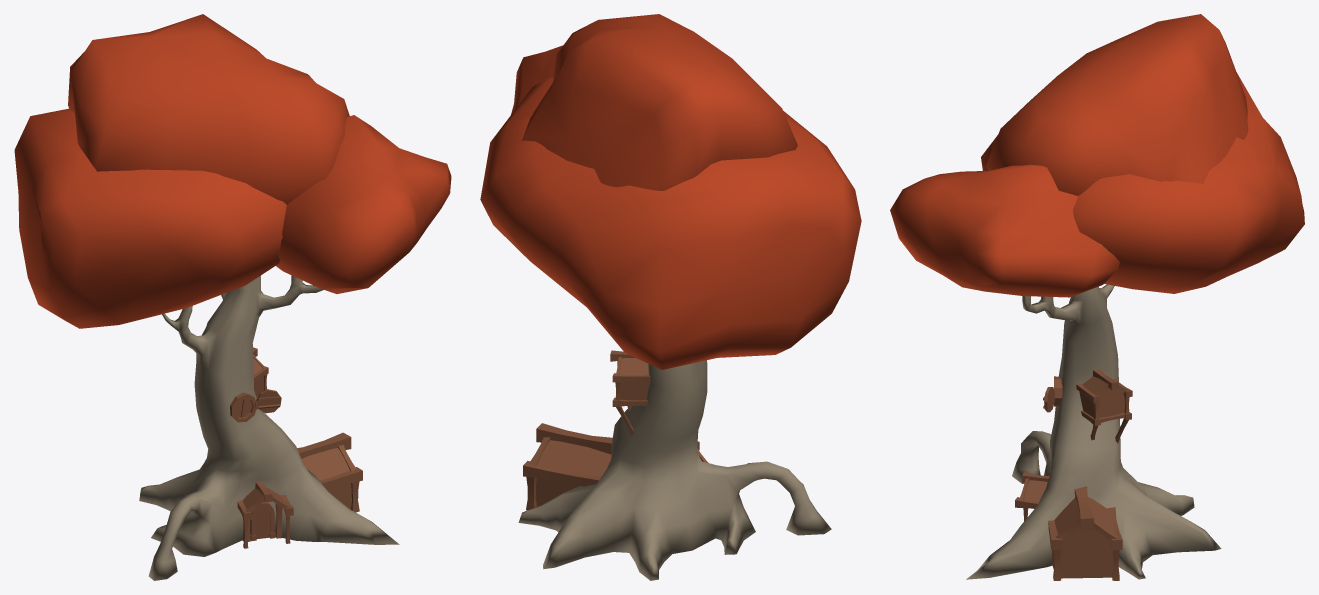
Rendered from Tree Home.fbx.
The picture shows the model from 3 angles, left to right: view 1: azimuth 30°, elevation 25°; view 2: azimuth 150°, elevation 25°; view 3: azimuth 270°, elevation 25°; orthographic projection. The views are drawn at different scales.
Visible parts, largest first — view 1: pCube2, pCube4, pCube8, pCube3, pCube34, pCube38; view 2: pCube2, pCube4, pCube8, pCube33, pCube3, pCube38, pCube36, pPlane3, pPlane8; view 3: pCube4, pCube2, pCube8, pCube3, pPlane7, pPlane4, pCube38.
Boxes of the visible parts, left/top/right/bottom form: pCube2: left=14, top=108, right=286, bottom=328; pCube4: left=68, top=14, right=349, bottom=204; pCube8: left=139, top=275, right=399, bottom=580; pCube3: left=276, top=115, right=451, bottom=293; pCube34: left=301, top=448, right=349, bottom=480; pCube38: left=297, top=432, right=351, bottom=458; pCube2: left=480, top=77, right=861, bottom=369; pCube4: left=521, top=14, right=797, bottom=190; pCube8: left=518, top=360, right=831, bottom=580; pCube33: left=537, top=440, right=611, bottom=476; pCube3: left=511, top=45, right=562, bottom=114; pCube38: left=536, top=423, right=612, bottom=454; pCube36: left=523, top=460, right=601, bottom=486; pPlane3: left=535, top=478, right=580, bottom=506; pPlane8: left=619, top=381, right=648, bottom=400; pCube4: left=986, top=14, right=1248, bottom=195; pCube2: left=981, top=72, right=1304, bottom=293; pCube8: left=966, top=284, right=1221, bottom=579; pCube3: left=890, top=164, right=1119, bottom=297; pPlane7: left=1060, top=528, right=1113, bottom=578; pPlane4: left=1098, top=388, right=1124, bottom=417; pCube38: left=1074, top=486, right=1093, bottom=531.
Size of the model in its own units: 54.78 by 69.72 by 54.8.
